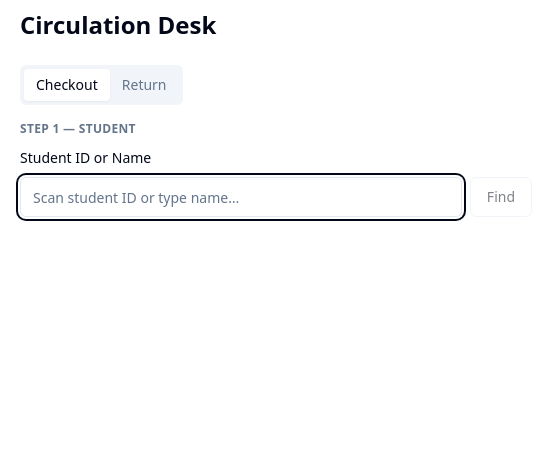
Test case: ReturnTab › displays book card after successful lookup
The width and height of the screenshot is (549, 470).
Click the tab "Return".
click(144, 85)  # box top-left (110, 69), bottom-right (179, 101)
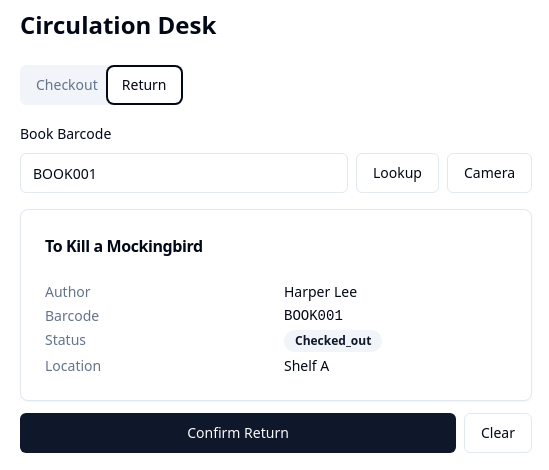
Expected: the text "To Kill a Mockingbird" is shown, top-left (45, 235), bottom-right (203, 257)
Expected: the button "Confirm Return" is shown, top-left (20, 413), bottom-right (456, 453)
